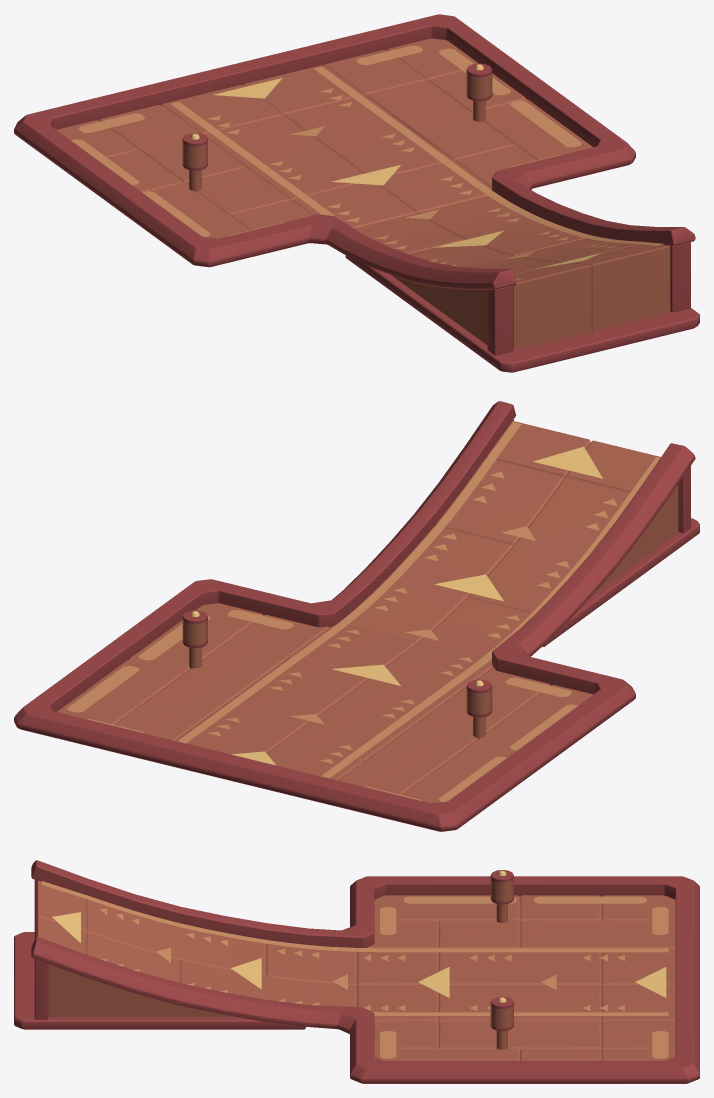
Rendered from Launcher2.fbx.
3 views of the same model, one above another, from view 1: azimuth 30°, elevation 25°; view 2: azimuth 150°, elevation 25°; view 3: azimuth 270°, elevation 25° (orthographic). The views are drawn at different scales.
Parts seen in each view (by area): view 1: Launcher2; view 2: Launcher2; view 3: Launcher2.
Part boxes in pixels (x1,y1,x2,y2): Launcher2: (14,14,699,372); Launcher2: (14,401,699,831); Launcher2: (14,860,699,1083).
Size of the model in its own units: 59.84 by 15.29 by 87.77.
1 material, 1 textured.
